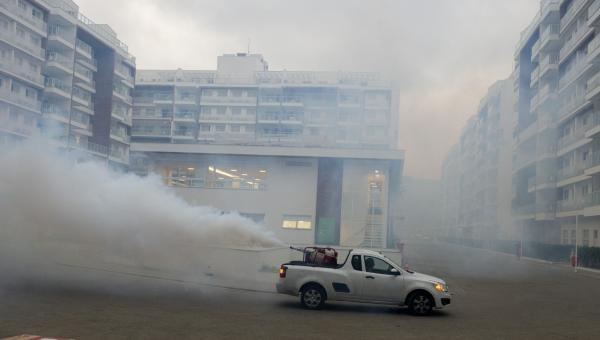car: (273, 245, 453, 317)
